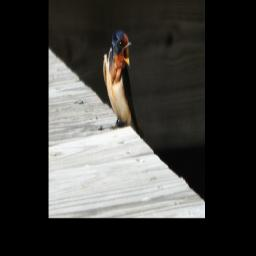Swallow: (102, 27, 137, 129)
